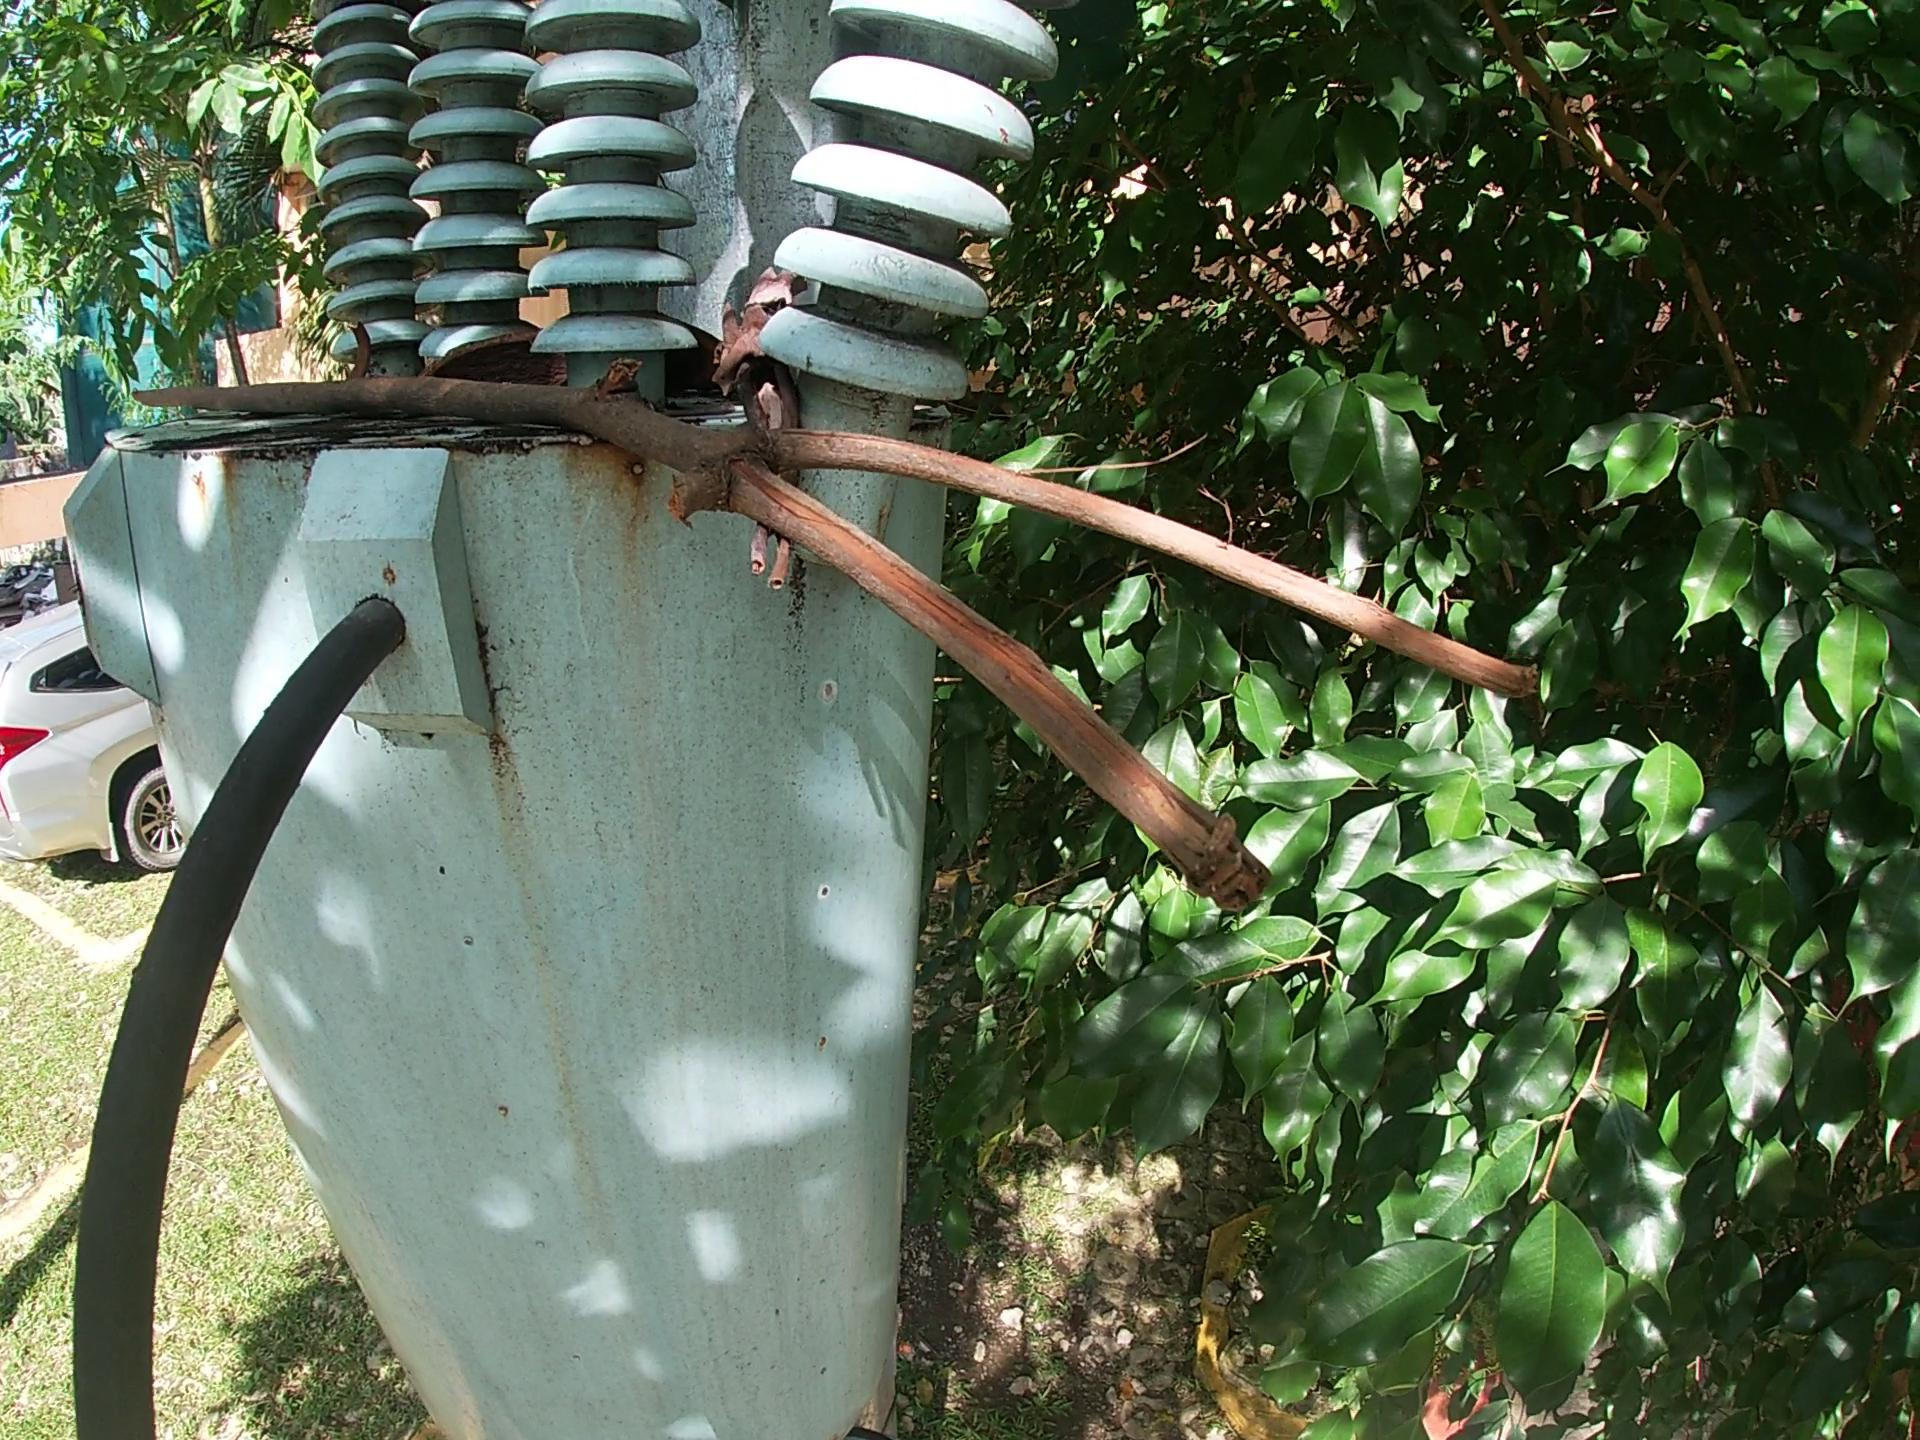mahogany fruit: (413, 318, 717, 398), (342, 319, 376, 380)
tree branch: (122, 342, 1550, 929), (705, 256, 813, 601)
